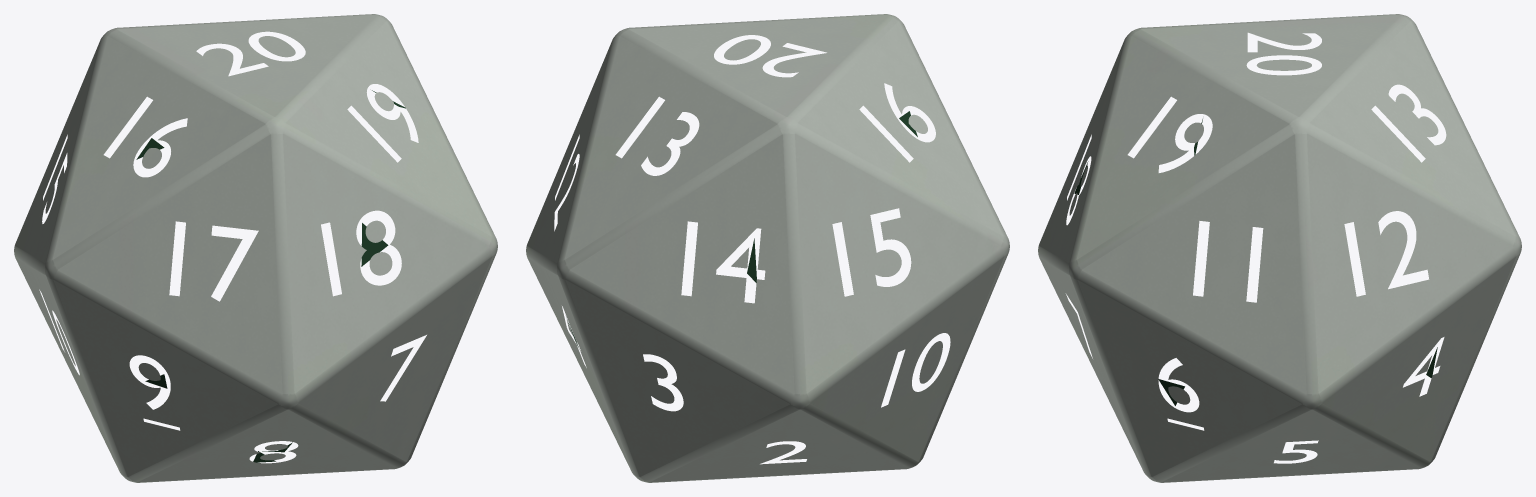
The picture shows the model from 3 angles, left to right: view 1: azimuth 30°, elevation 25°; view 2: azimuth 150°, elevation 25°; view 3: azimuth 270°, elevation 25°; orthographic projection.
Parts seen in each view (by area): view 1: Jade D20; view 2: Jade D20; view 3: Jade D20.
Part boxes in pixels (left/top/right/bottom): Jade D20: left=14, top=14, right=497, bottom=482; Jade D20: left=526, top=14, right=1009, bottom=482; Jade D20: left=1038, top=14, right=1521, bottom=482.
Size of the model in its own units: 1.38 by 1.14 by 1.29.
2 materials, 1 textured.
